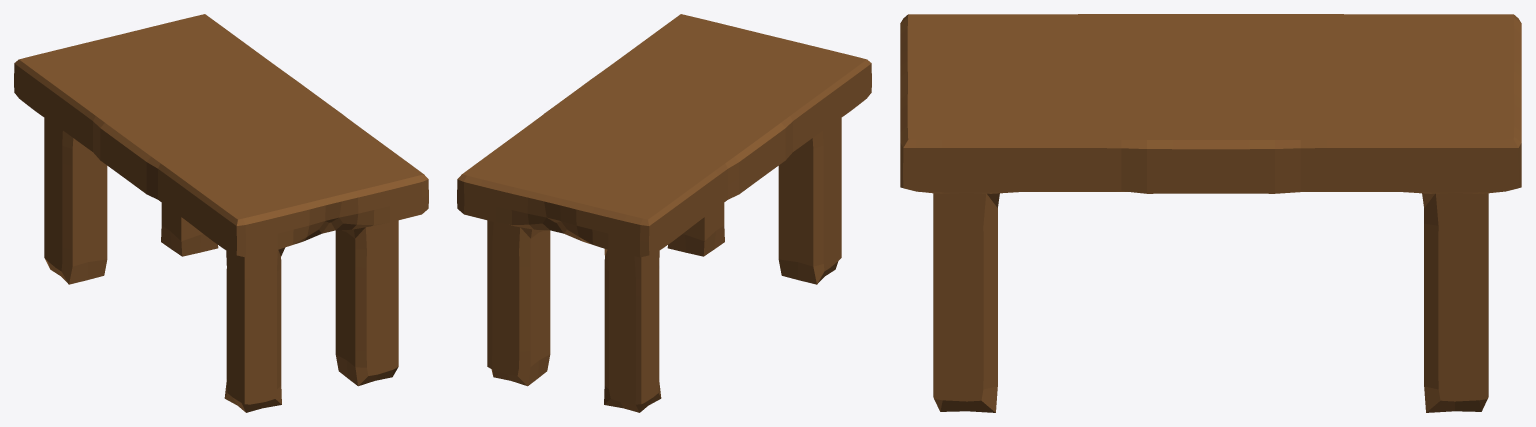
File: table de craft.glb
The picture shows the model from 3 angles, left to right: view 1: azimuth 30°, elevation 25°; view 2: azimuth 150°, elevation 25°; view 3: azimuth 270°, elevation 25°; orthographic projection. The views are drawn at different scales.
Visible parts, largest first — view 1: Cube; view 2: Cube; view 3: Cube.
Boxes of the visible parts, x1,y1,x2,y2 form: Cube: (14, 14, 428, 412); Cube: (457, 14, 871, 412); Cube: (900, 14, 1521, 412).
Bounding box in the file's own units: 1.22 × 1.23 × 2.42.
